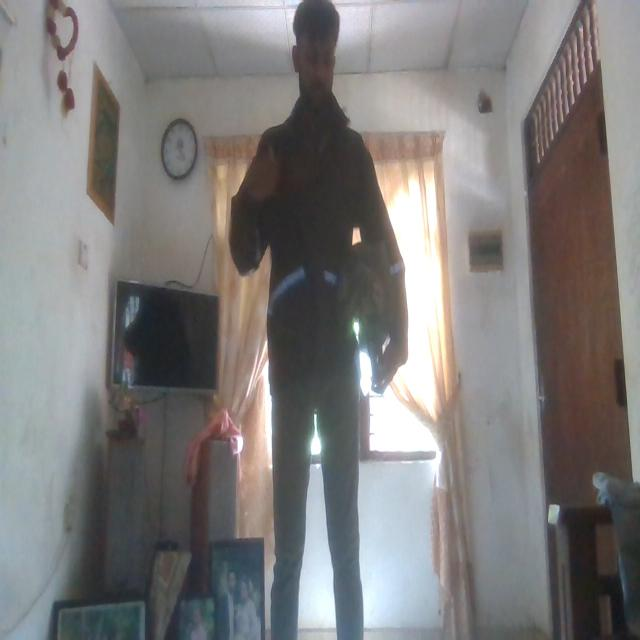Jacket_Wearer: (228, 103, 390, 399)
Person: (232, 0, 392, 640)
